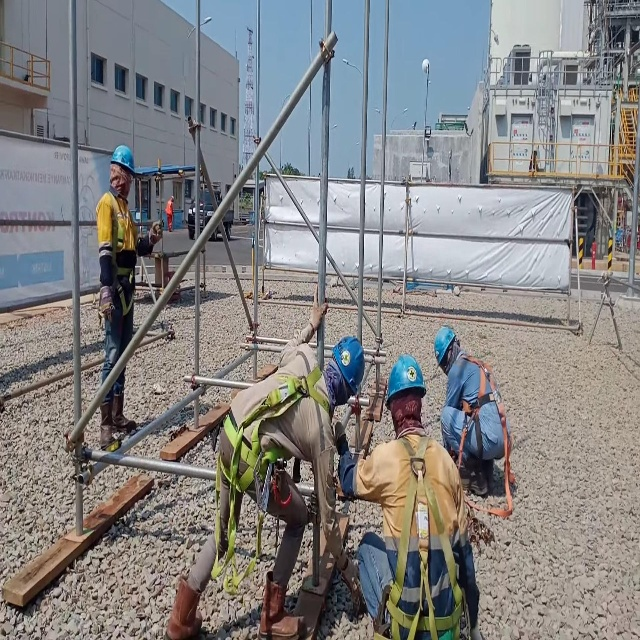Arnes_seguridad: (211, 368, 335, 591), (374, 443, 467, 640), (456, 355, 517, 521), (93, 197, 137, 319)
